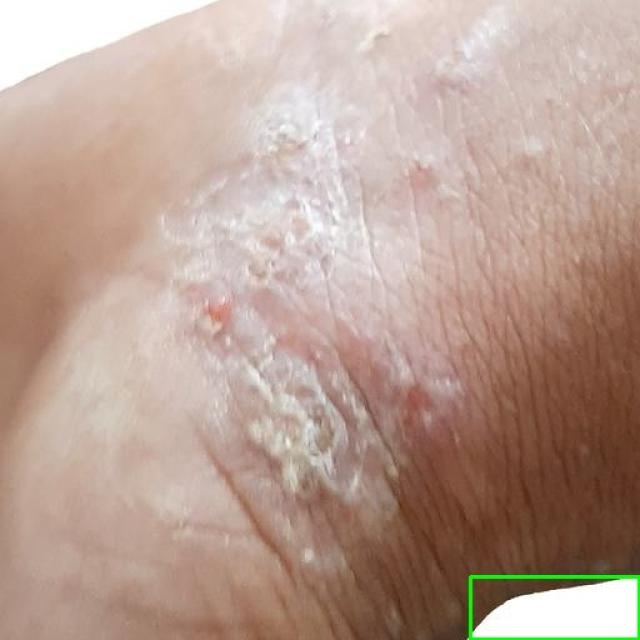Scabies: (470, 576, 639, 639)
